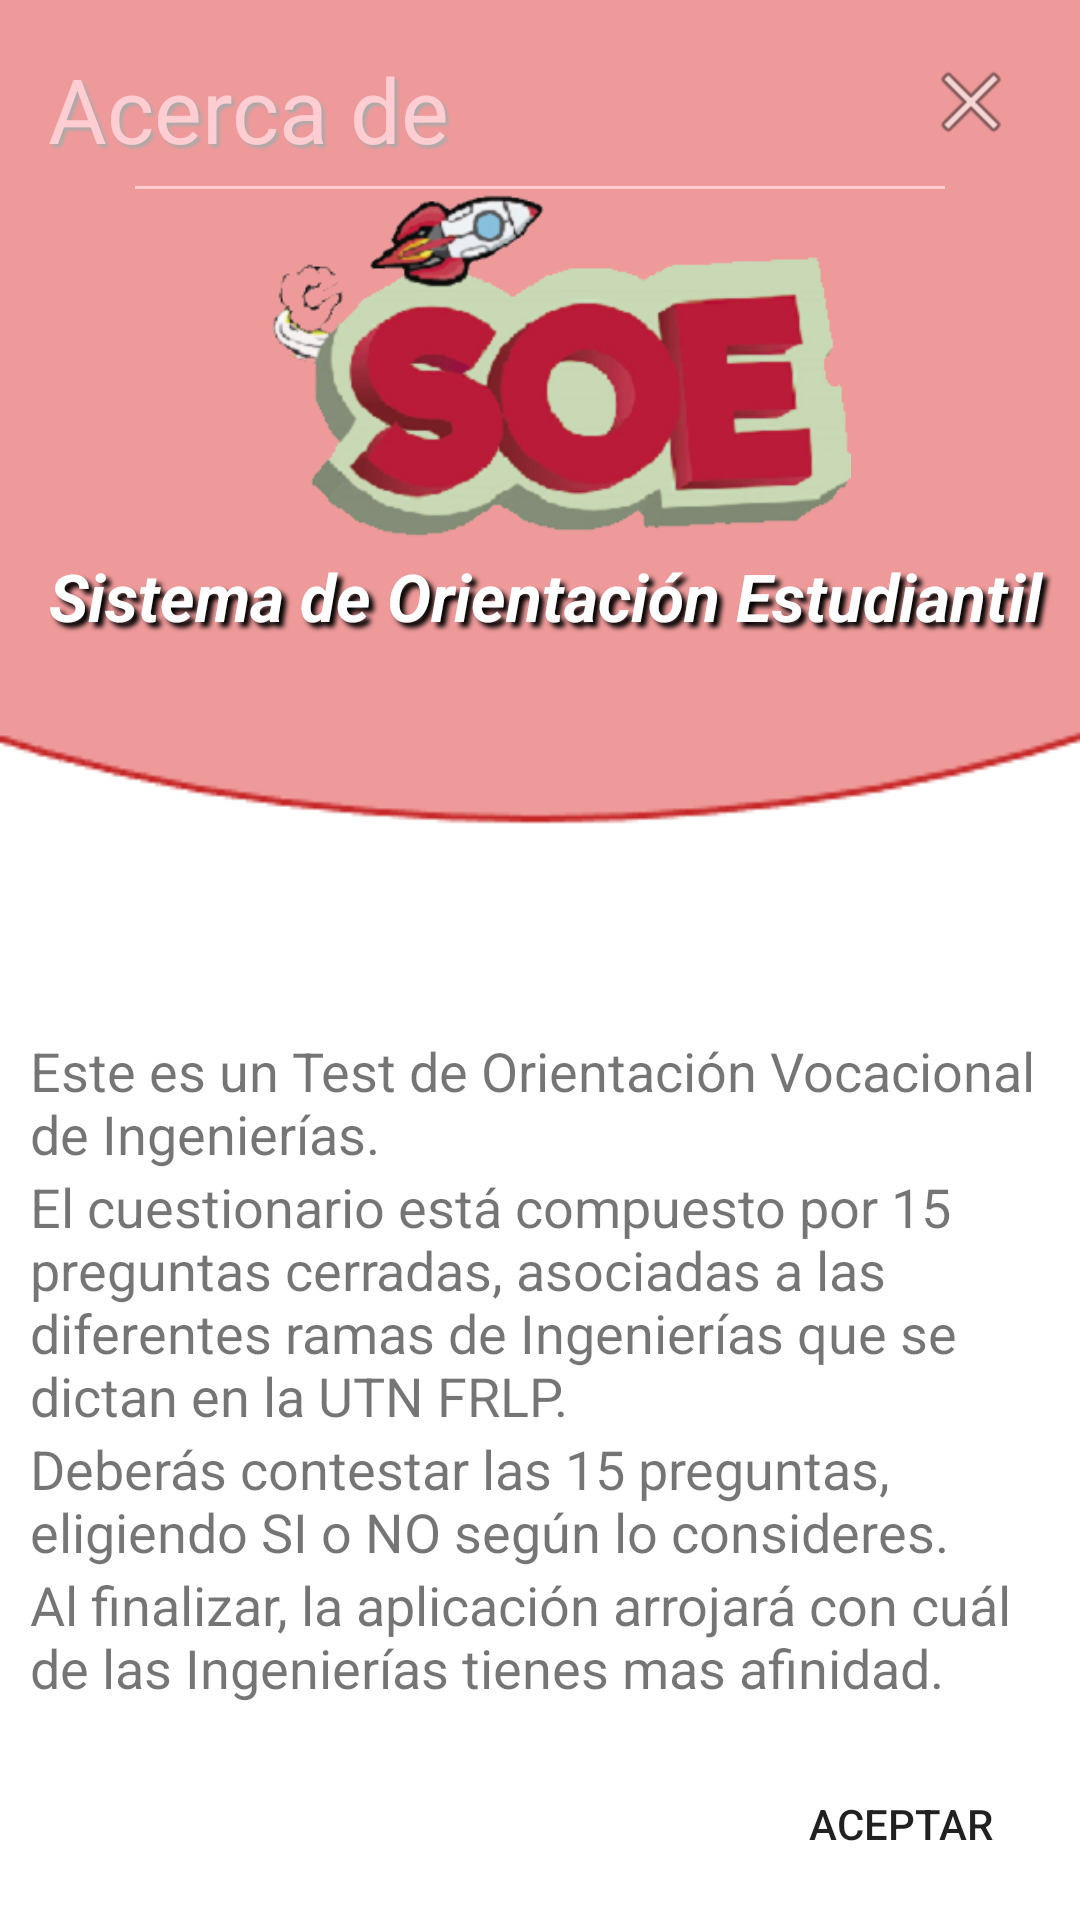

Where to tap for icons on this 1080×1920 app screen, as point (x, y):
close clear cancel: point (971, 102)
